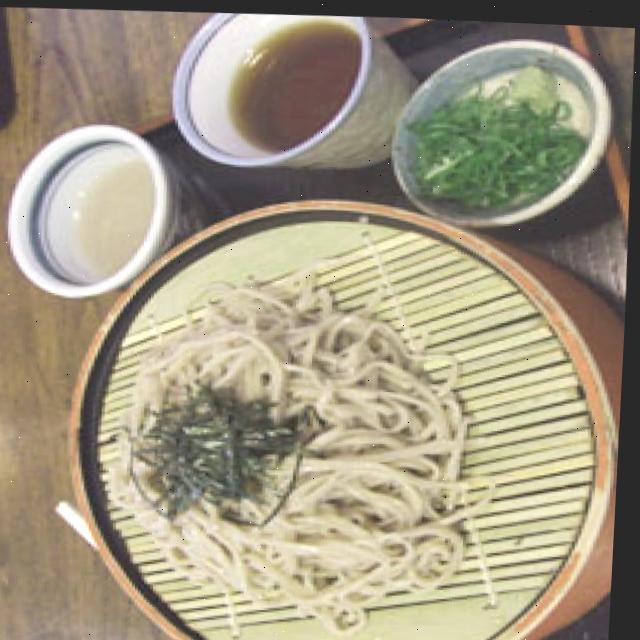面条主食: (47, 166, 633, 640)
